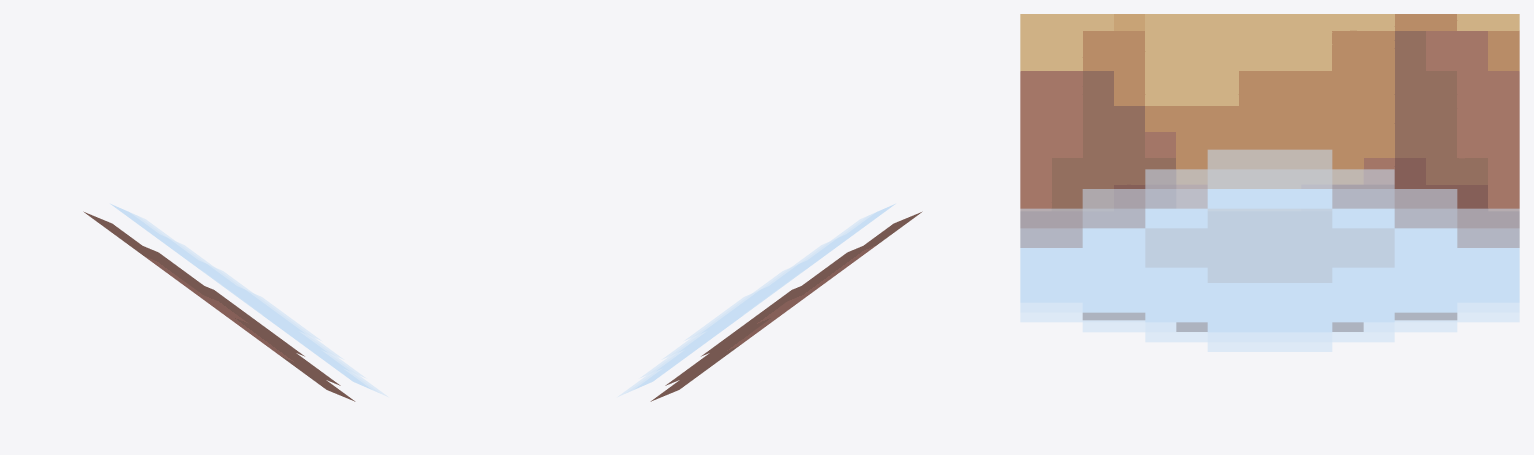
3 views of the same model, side by side, from view 1: azimuth 30°, elevation 25°; view 2: azimuth 150°, elevation 25°; view 3: azimuth 270°, elevation 25° (orthographic). The views are drawn at different scales.
Bounding box in the file's own units: 0.5459 × 0.6892 × 1.
Materials: 2 (2 with a texture image).
